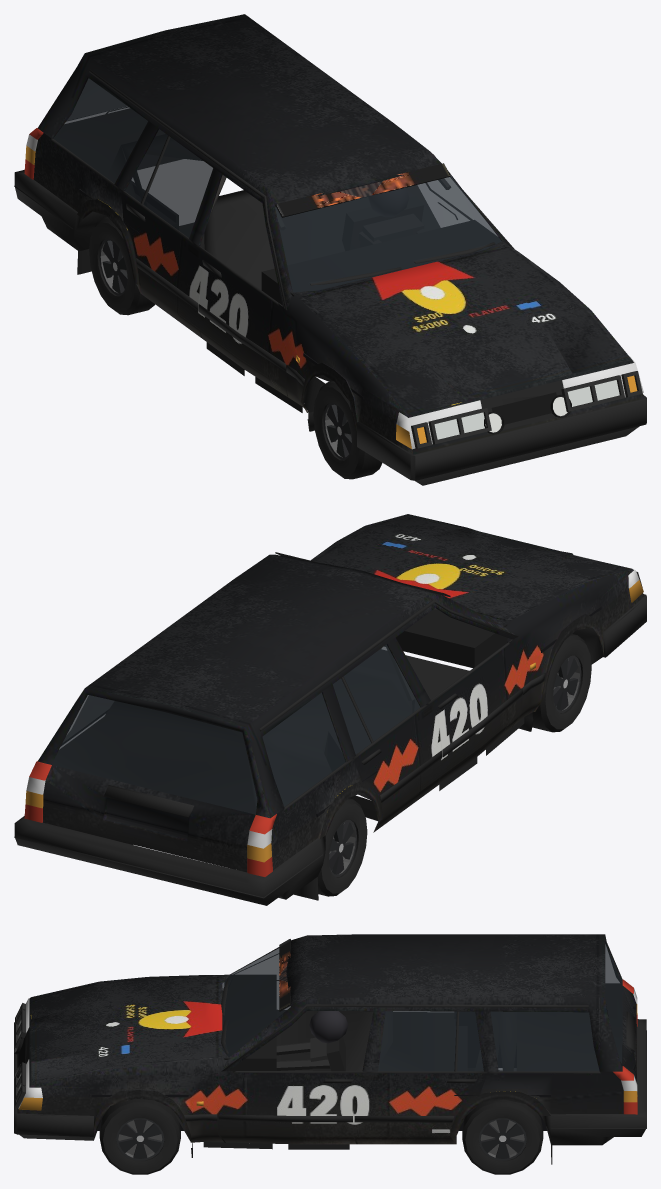
The picture shows the model from 3 angles, top to bottom: view 1: azimuth 30°, elevation 25°; view 2: azimuth 150°, elevation 25°; view 3: azimuth 270°, elevation 25°; orthographic projection. The views are drawn at different scales.
Parts seen in each view (by area): view 1: body, wheel_fr, wheel_rr; view 2: body, wheel_fr, wheel_rr; view 3: body, wheel_fl, wheel_rl.
Part boxes in pixels (<box>): body: <box>14,14,646,485</box>; wheel_fr: <box>313,381,382,479</box>; wheel_rr: <box>89,217,155,315</box>; body: <box>14,514,646,905</box>; wheel_fr: <box>532,634,591,732</box>; wheel_rr: <box>318,798,367,896</box>; body: <box>14,934,646,1164</box>; wheel_fl: <box>99,1098,180,1174</box>; wheel_rl: <box>462,1099,543,1174</box>.
Size of the model in its own units: 1.78 by 1.41 by 4.84.
2 materials, 1 textured.
